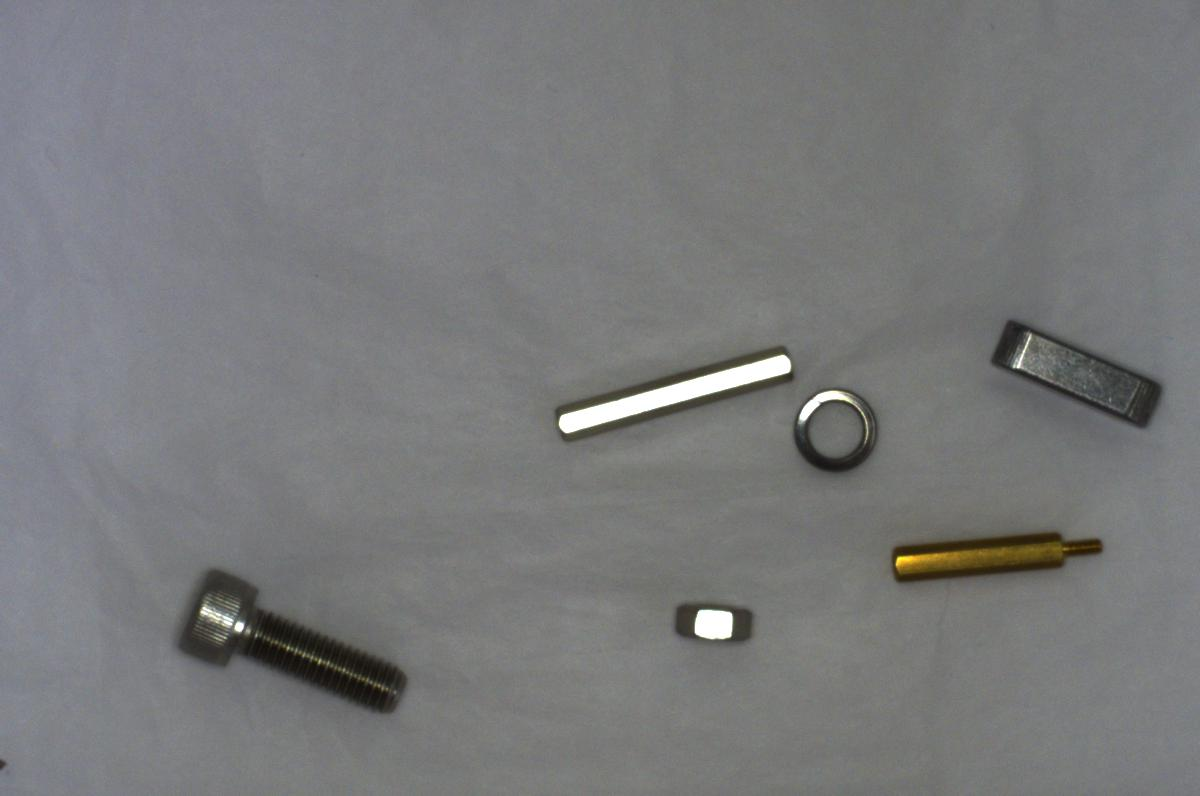Double hexagonal column: (554, 340, 798, 445)
Hexagon nut: (661, 593, 762, 653)
Hexagon pillar: (879, 520, 1112, 583)
Hexagon screw: (160, 565, 420, 718)
Keybar: (981, 307, 1168, 434)
Spring washer: (792, 382, 885, 475)
